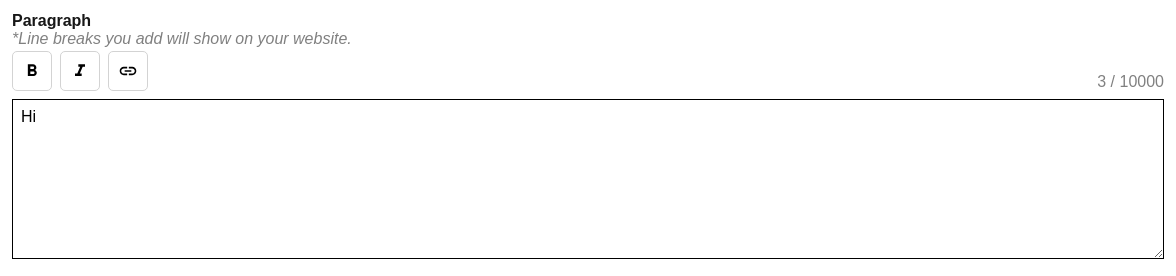
Scenario: ParagraphField formatting › acts at the end of the text before the paragraph has been clicked into
Click the button named "Italic text in paragraph 1" at (80, 71), box x1=60 y1=51 x2=100 y2=91
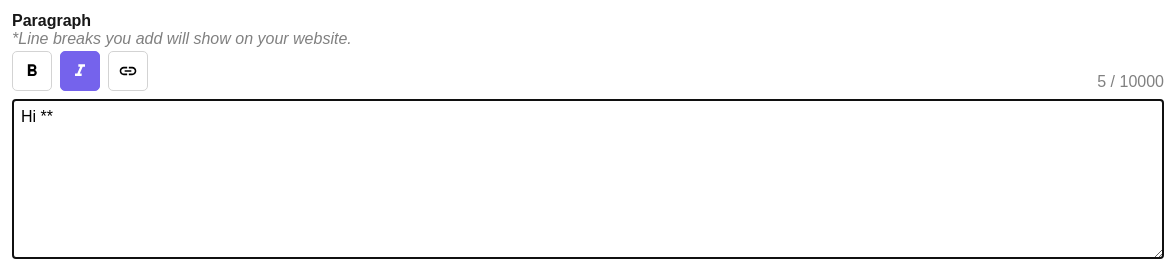
Expected: the text box labelled "Paragraph" holds "Hi **", x1=12 y1=99 x2=1164 y2=259
